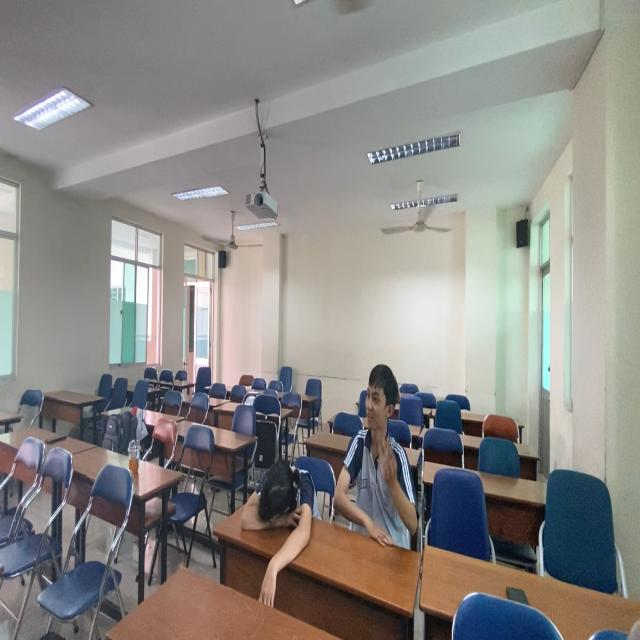sleep: (237, 449, 323, 548)
